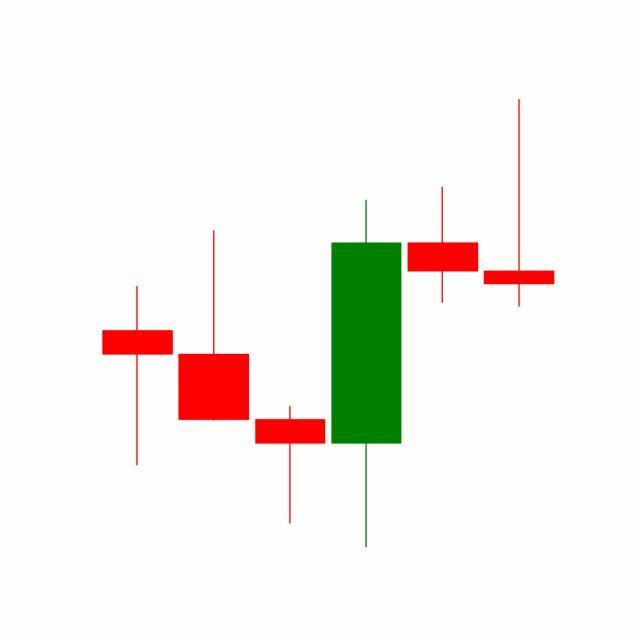Spinning Top: (404, 187, 482, 306)
